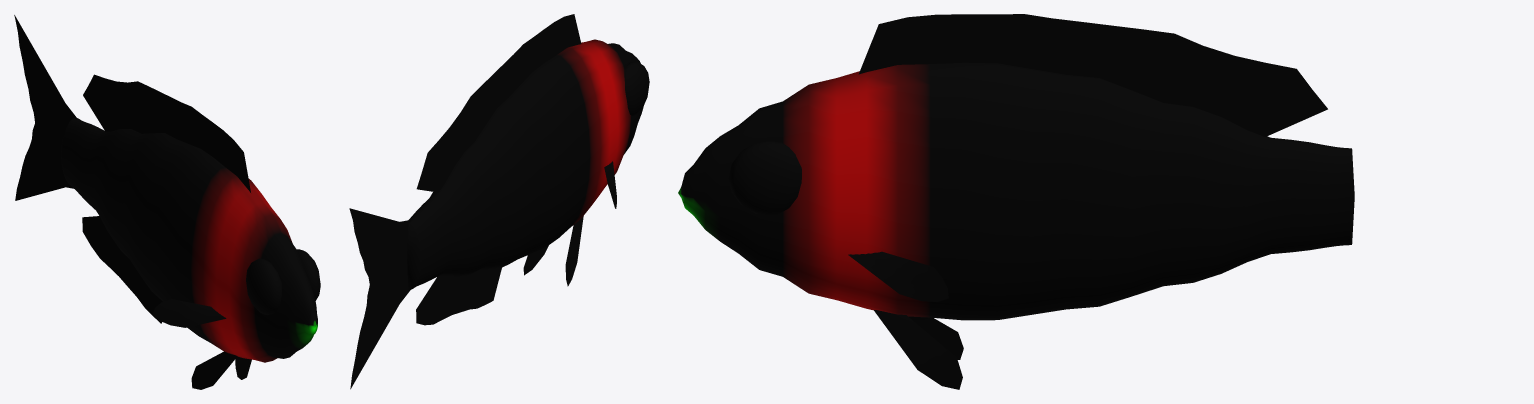
The model's file is yellowtail-damsel.glb.
3 views of the same model, side by side, from view 1: azimuth 30°, elevation 25°; view 2: azimuth 150°, elevation 25°; view 3: azimuth 270°, elevation 25° (orthographic). The views are drawn at different scales.
Visible parts, largest first — view 1: damsel_body, damsel_dorsal, damsel_caudal, damsel_anal, damsel_eyeL, damsel_pectoralL, damsel_pelvicL, damsel_eyeR, damsel_pelvicR; view 2: damsel_body, damsel_dorsal, damsel_caudal, damsel_anal, damsel_eyeL, damsel_pelvicL, damsel_pectoralL, damsel_pelvicR; view 3: damsel_body, damsel_dorsal, damsel_eyeR, damsel_pelvicR, damsel_pectoralR, damsel_pelvicL.
Part boxes in pixels (x1=…): damsel_body: x1=61, y1=118, x2=317, y2=362; damsel_dorsal: x1=83, y1=74, x2=250, y2=192; damsel_caudal: x1=14, y1=15, x2=76, y2=200; damsel_anal: x1=82, y1=216, x2=162, y2=323; damsel_eyeL: x1=246, y1=258, x2=281, y2=315; damsel_pectoralL: x1=153, y1=299, x2=226, y2=327; damsel_pelvicL: x1=191, y1=351, x2=237, y2=389; damsel_eyeR: x1=297, y1=249, x2=320, y2=300; damsel_pelvicR: x1=235, y1=356, x2=251, y2=379; damsel_body: x1=407, y1=39, x2=643, y2=290; damsel_dorsal: x1=416, y1=14, x2=581, y2=192; damsel_caudal: x1=349, y1=208, x2=410, y2=389; damsel_anal: x1=416, y1=268, x2=501, y2=325; damsel_eyeL: x1=624, y1=61, x2=649, y2=115; damsel_pelvicL: x1=565, y1=216, x2=583, y2=286; damsel_pectoralL: x1=604, y1=161, x2=616, y2=208; damsel_pelvicR: x1=523, y1=245, x2=548, y2=275; damsel_body: x1=678, y1=62, x2=1354, y2=320; damsel_dorsal: x1=858, y1=14, x2=1327, y2=136; damsel_eyeR: x1=728, y1=141, x2=801, y2=215; damsel_pelvicR: x1=874, y1=310, x2=962, y2=389; damsel_pectoralR: x1=848, y1=251, x2=948, y2=301; damsel_pelvicL: x1=909, y1=316, x2=963, y2=359.
Bounding box in the file's own units: 0.318 × 0.5917 × 1.25.
